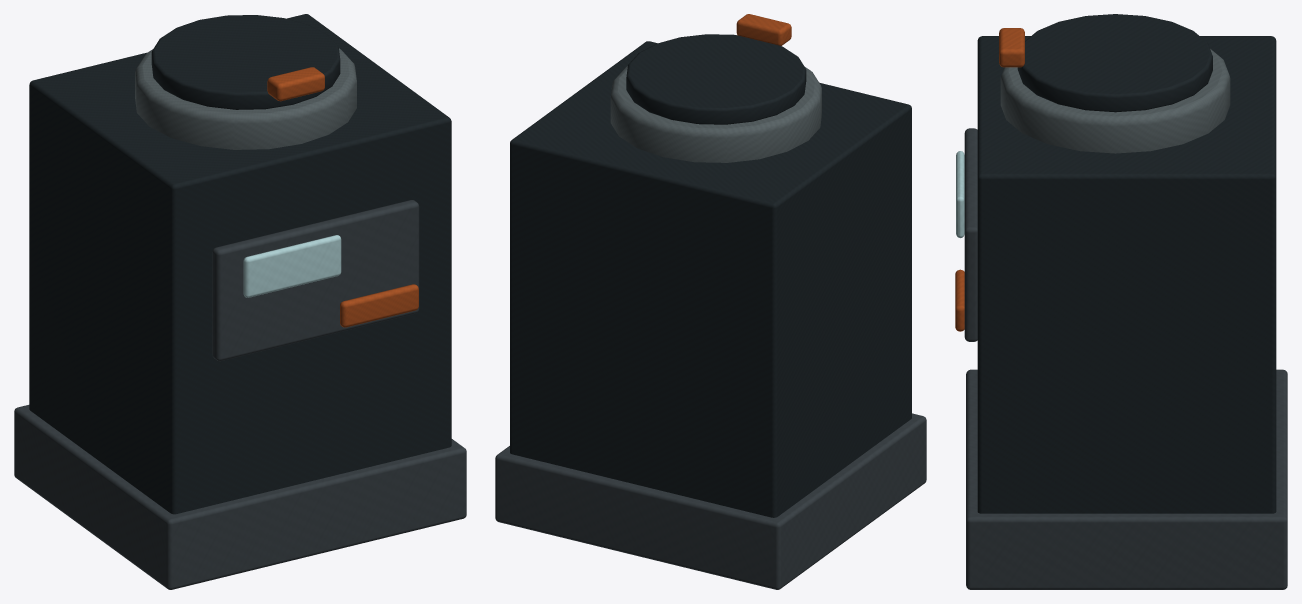
Rendered from BenchMicrocentrifuge.fbx.
The picture shows the model from 3 angles, left to right: view 1: azimuth 30°, elevation 25°; view 2: azimuth 150°, elevation 25°; view 3: azimuth 270°, elevation 25°; orthographic projection. The views are drawn at different scales.
Visible parts, largest first — view 1: BenchMicrocentrifuge_Mesh; view 2: BenchMicrocentrifuge_Mesh; view 3: BenchMicrocentrifuge_Mesh.
Part boxes in pixels (x1=…): BenchMicrocentrifuge_Mesh: x1=14, y1=14, x2=466, y2=589; BenchMicrocentrifuge_Mesh: x1=495, y1=14, x2=926, y2=589; BenchMicrocentrifuge_Mesh: x1=955, y1=14, x2=1287, y2=589.
Bounding box in the file's own units: 62 × 91.75 × 57.9.
Materials: 5 (5 with a texture image).
